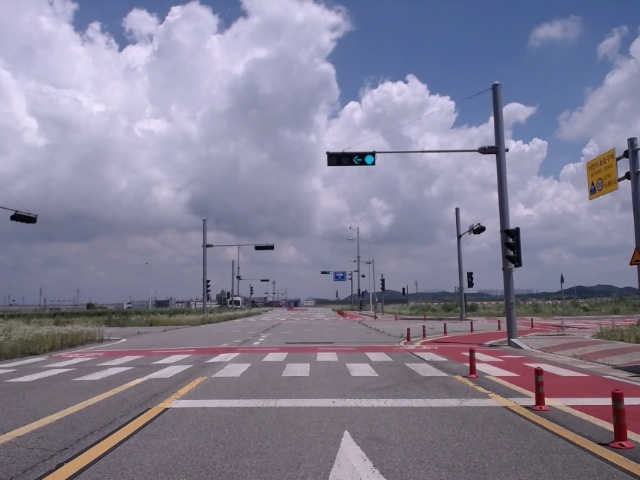all_green_4: (326, 151, 374, 164)
